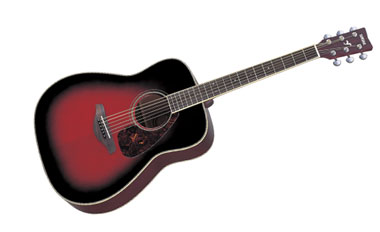guitar: (35, 25, 372, 216)
